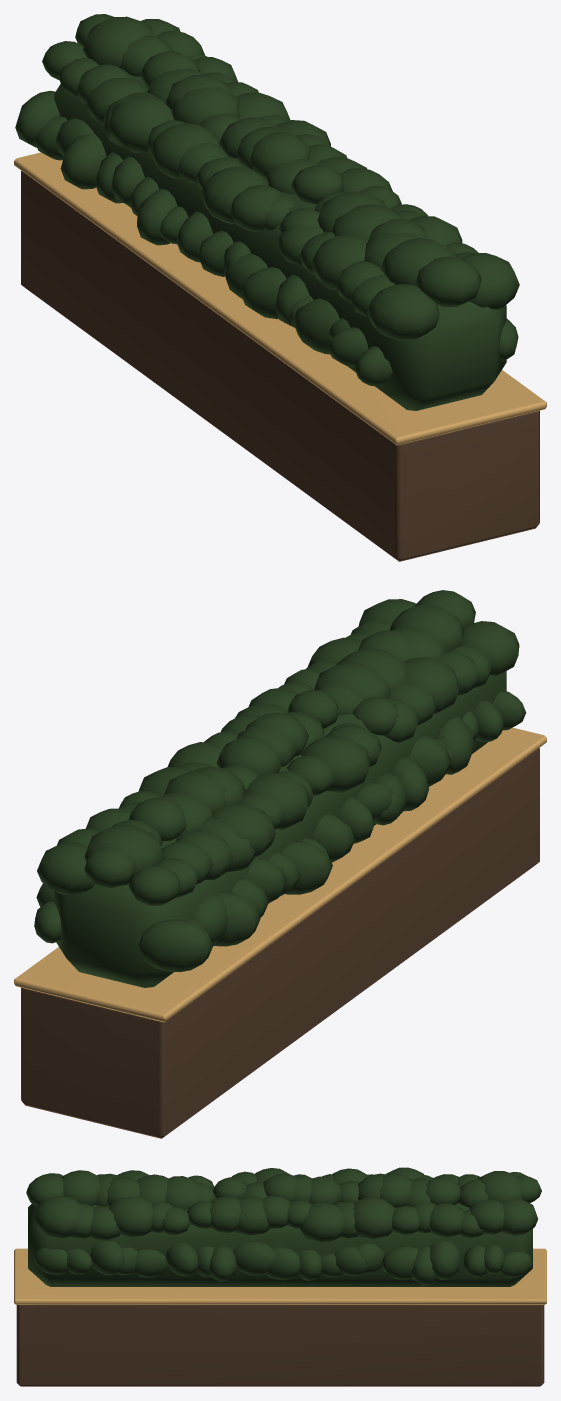
Rendered from planter_hedge.glb.
The picture shows the model from 3 angles, top to bottom: view 1: azimuth 30°, elevation 25°; view 2: azimuth 150°, elevation 25°; view 3: azimuth 270°, elevation 25°; orthographic projection. The views are drawn at different scales.
Visible parts, largest first — view 1: Mesh_Trough, Mesh_Lip, Mesh_HedgeCore, Mesh_Clump97, Mesh_Clump96, Mesh_Clump27, Mesh_Clump6, Mesh_Clump98, Mesh_Clump91, Mesh_Clump52, Mesh_Clump37, Mesh_Clump82 (+45 smaller); view 2: Mesh_Trough, Mesh_Lip, Mesh_HedgeCore, Mesh_Clump4, Mesh_Clump52, Mesh_Clump3, Mesh_Clump6, Mesh_Clump37, Mesh_Clump97, Mesh_Clump82, Mesh_Clump91, Mesh_Clump27 (+48 smaller); view 3: Mesh_Trough, Mesh_HedgeCore, Mesh_Lip, Mesh_Clump98, Mesh_Clump33, Mesh_Clump83, Mesh_Clump43, Mesh_Clump60, Mesh_Clump3, Mesh_Clump91, Mesh_Clump58, Mesh_Clump6 (+52 smaller).
Boxes of the visible parts, x1,y1,x2,y2 form: Mesh_Trough: [21, 171, 539, 561]; Mesh_Lip: [14, 152, 546, 445]; Mesh_HedgeCore: [54, 74, 506, 410]; Mesh_Clump97: [367, 284, 439, 340]; Mesh_Clump96: [416, 256, 481, 307]; Mesh_Clump27: [108, 95, 173, 152]; Mesh_Clump6: [83, 16, 155, 66]; Mesh_Clump98: [460, 253, 519, 309]; Mesh_Clump91: [381, 238, 457, 286]; Mesh_Clump52: [200, 166, 268, 224]; Mesh_Clump37: [150, 123, 219, 179]; Mesh_Clump82: [311, 234, 368, 290]; Mesh_Trough: [21, 748, 539, 1138]; Mesh_Lip: [14, 727, 546, 1022]; Mesh_HedgeCore: [54, 671, 506, 987]; Mesh_Clump4: [138, 919, 213, 972]; Mesh_Clump52: [301, 735, 370, 792]; Mesh_Clump3: [37, 842, 95, 894]; Mesh_Clump6: [84, 825, 164, 885]; Mesh_Clump37: [245, 773, 310, 829]; Mesh_Clump97: [462, 621, 519, 675]; Mesh_Clump82: [404, 657, 458, 713]; Mesh_Clump91: [389, 604, 464, 651]; Mesh_Clump27: [211, 803, 276, 857]; Mesh_Trough: [16, 1305, 544, 1386]; Mesh_HedgeCore: [28, 1186, 532, 1286]; Mesh_Lip: [14, 1248, 546, 1304]; Mesh_Clump98: [34, 1196, 80, 1238]; Mesh_Clump33: [353, 1197, 395, 1239]; Mesh_Clump83: [109, 1196, 152, 1237]; Mesh_Clump43: [299, 1202, 344, 1242]; Mesh_Clump60: [233, 1241, 275, 1275]; Mesh_Clump3: [501, 1198, 538, 1235]; Mesh_Clump91: [61, 1170, 100, 1205]; Mesh_Clump58: [234, 1196, 269, 1235]; Mesh_Clump6: [477, 1171, 522, 1202].
Bounding box in the file's own units: 0.8216 × 1.11 × 2.83.
